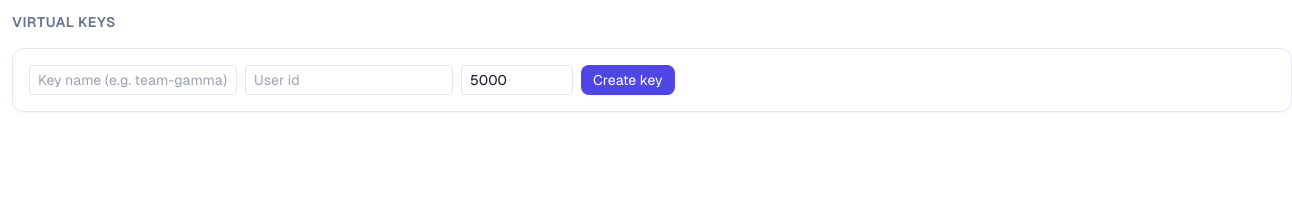
VirtualKeyPane › rotates a key and shows the new value
This screenshot has width=1292, height=223.
In the field with placeholder "Key name (e.g. team-gamma)": (133, 80) [29,65,237,95], type "team-gamma"
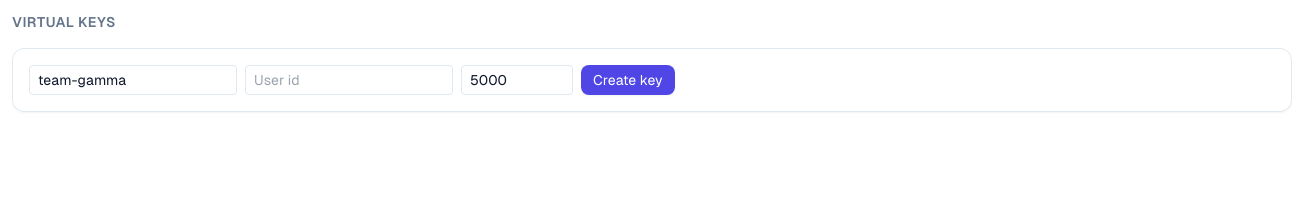
In the field with placeholder "User id": (349, 80) [245,65,453,95], type "team-gamma"
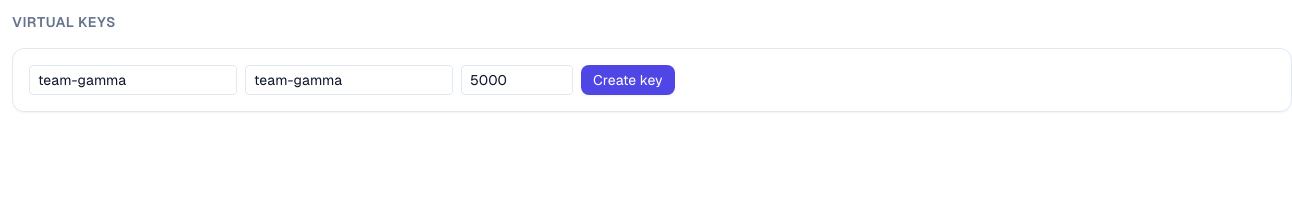
Click the button "Create key": (628, 80) [581,65,674,95]
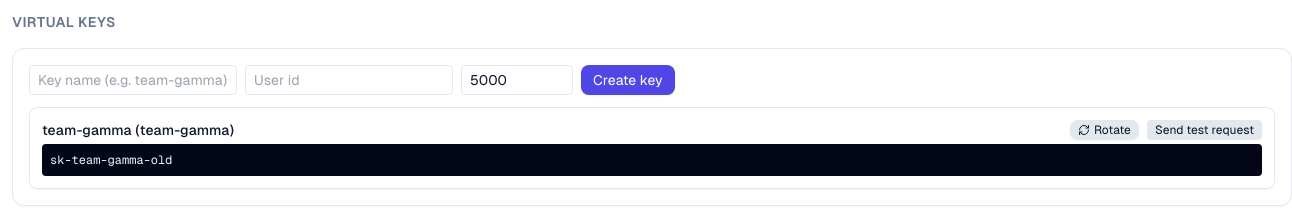
Result: the text "sk-team-gamma-old" is shown at [42,144,1262,176]
Click the button "Rotate": (1104, 130) [1070,120,1139,140]
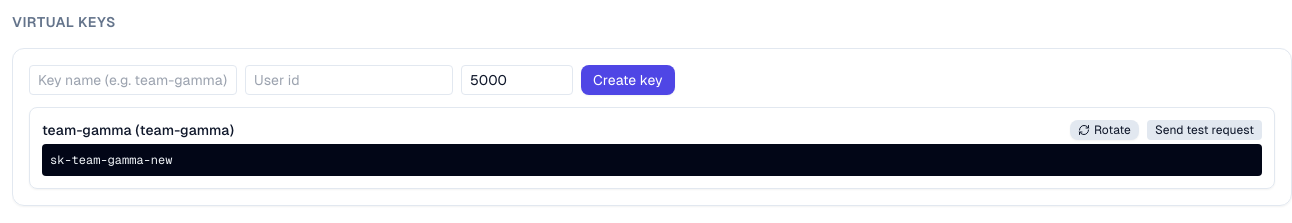
Result: the text "sk-team-gamma-new" is shown at [42,144,1262,176]
